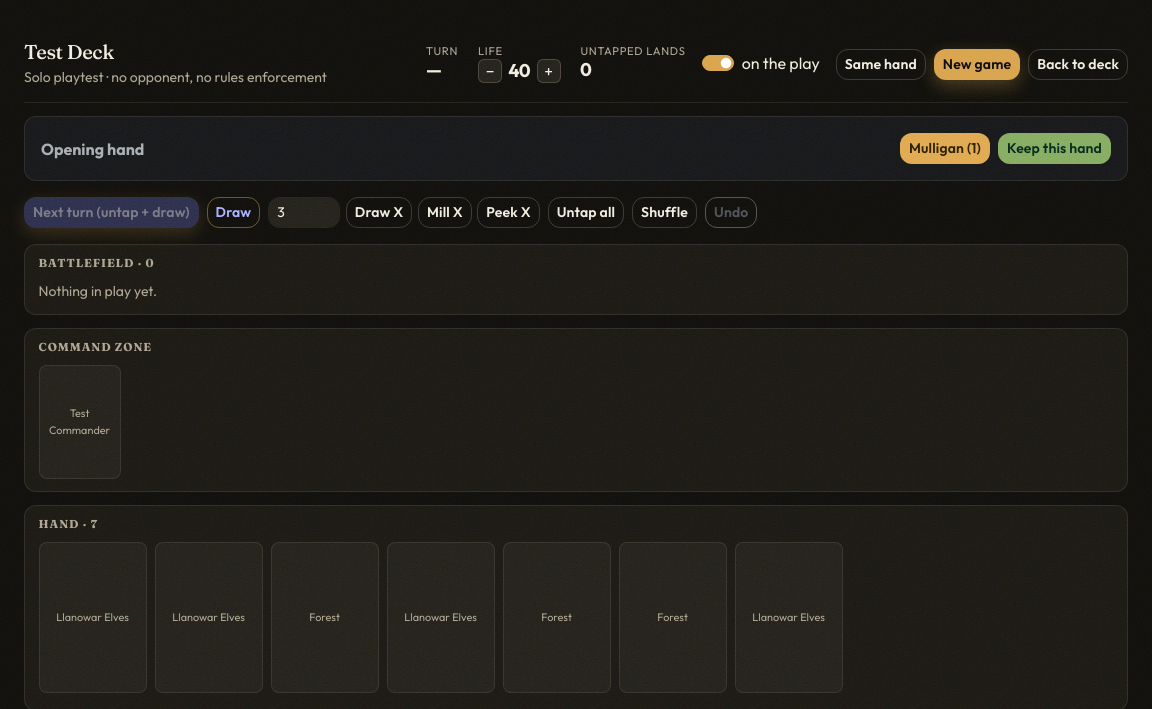
PlaytestPage › advances the turn, drawing a card
Click the button "Keep this hand" at [1054, 149], box 998,133 -> 1111,164
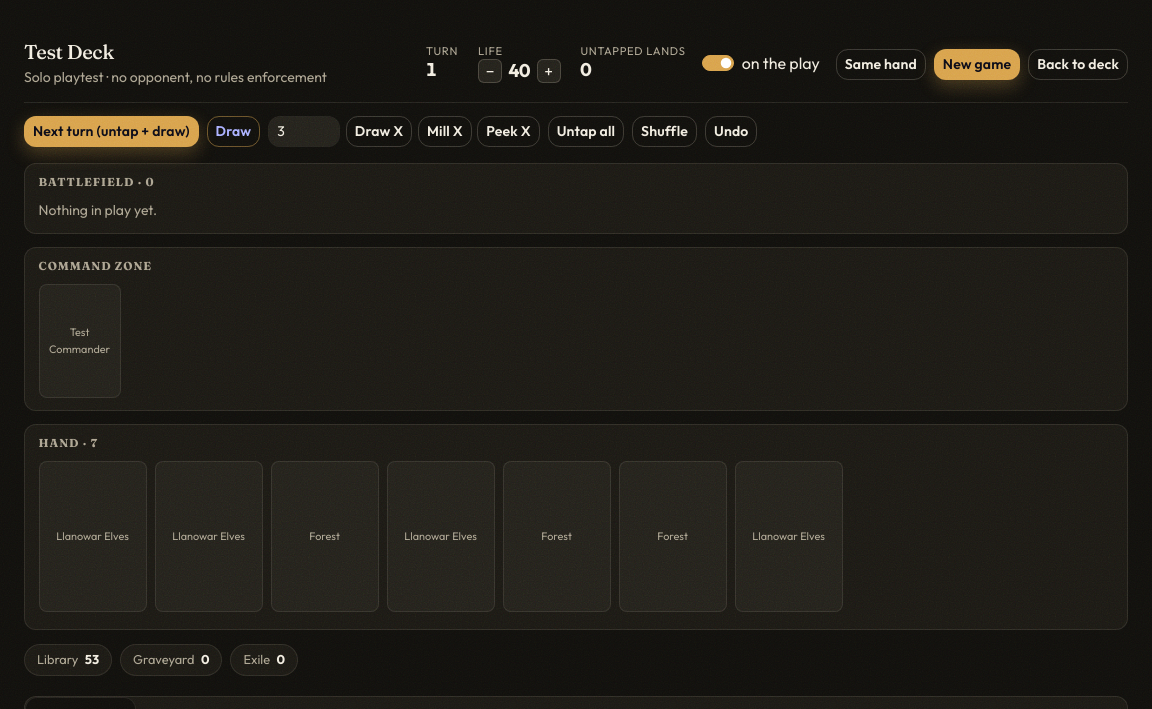
Click the button "Next turn (untap + draw)" at [111, 132], box 24,116 -> 199,147
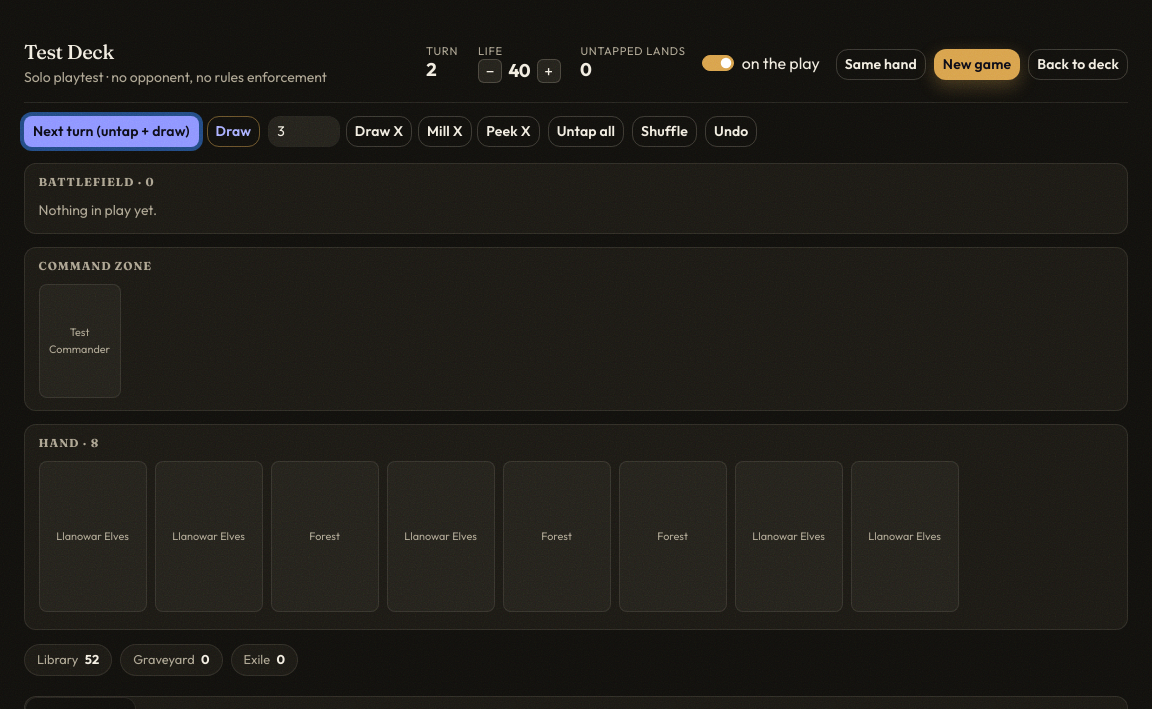
Check: the text "2" is shown, box 426,58 -> 437,81
